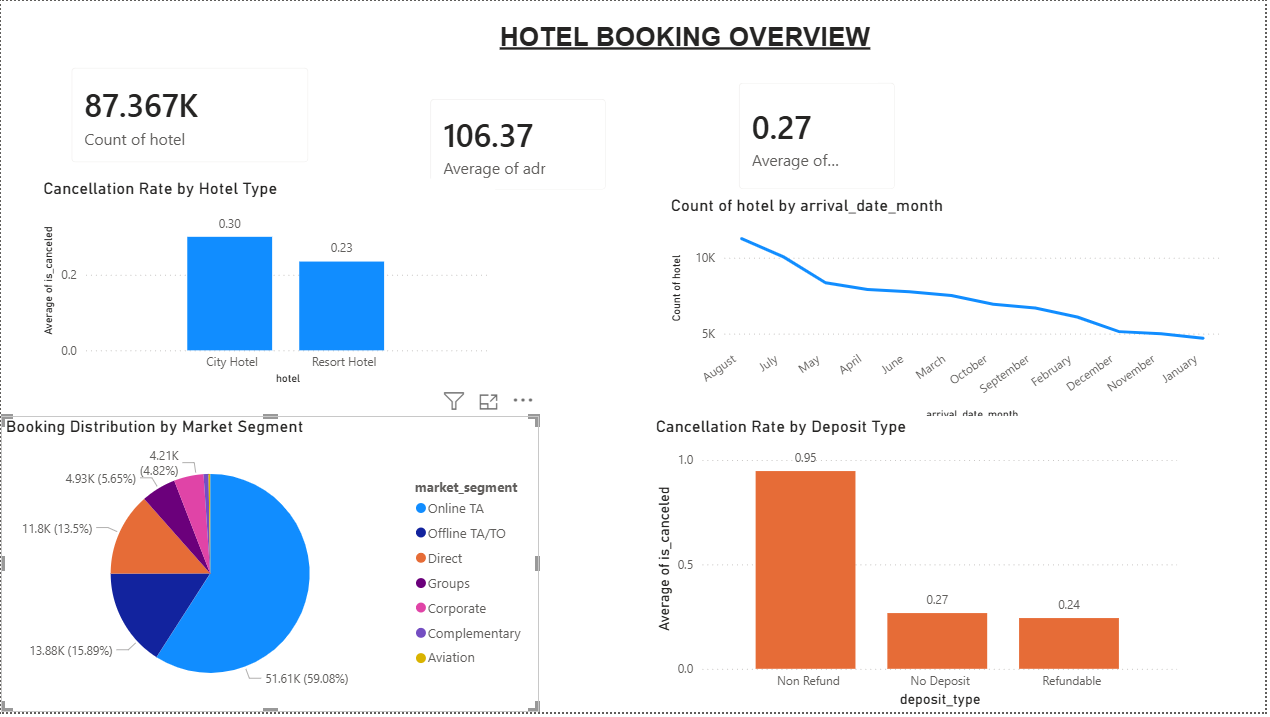

Layout of this report page (visuals, bound fields, positions):
{"tool":"powerbi","page":{"name":"Executive Overview","canvas":[1280,720],"ordinal":0},"visuals":[{"type":"cardVisual","fields":{"Data":["CountNonNull(hotel_bookings_cleaned.hotel)"]},"box":[54,50,274,130],"z":0},{"type":"cardVisual","fields":{"Data":["Avg(hotel_bookings_cleaned.is_canceled)"]},"box":[730,66,192,142],"z":1},{"type":"cardVisual","fields":{"Data":["Avg(hotel_bookings_cleaned.adr)"]},"box":[418,82,212,126],"z":2},{"type":"clusteredColumnChart","title":"Cancellation Rate by Hotel Type","fields":{"Category":["hotel_bookings_cleaned.hotel"],"Y":["Avg(hotel_bookings_cleaned.is_canceled)"]},"box":[38,180,462,214],"z":3},{"type":"lineChart","fields":{"Category":["hotel_bookings_cleaned.arrival_date_month"],"Y":["CountNonNull(hotel_bookings_cleaned.hotel)"]},"box":[674,196,566,234],"z":4},{"type":"clusteredColumnChart","title":"Cancellation Rate by Deposit Type","fields":{"Category":["hotel_bookings_cleaned.deposit_type"],"Y":["Avg(hotel_bookings_cleaned.is_canceled)"]},"box":[658,420,538,300],"z":5},{"type":"pieChart","title":"Booking Distribution by Market Segment","fields":{"Category":["hotel_bookings_cleaned.market_segment"],"Y":["CountNonNull(hotel_bookings_cleaned.hotel)"]},"box":[0,420,544,300],"z":6},{"type":"textbox","box":[500,16,388,66],"z":9}]}

Visuals, with their boxes in screenshot pixels (x1, y1, x2, y2), scaled from the page's 1280x720 canvas onto the 1270x717 screenshot:
cardVisual - CountNonNull(hotel_bookings_cleaned.hotel): select_region(54, 50, 325, 179)
cardVisual - Avg(hotel_bookings_cleaned.is_canceled): select_region(724, 66, 915, 207)
cardVisual - Avg(hotel_bookings_cleaned.adr): select_region(415, 82, 625, 207)
"Cancellation Rate by Hotel Type" clusteredColumnChart: select_region(38, 179, 496, 392)
lineChart - hotel_bookings_cleaned.arrival_date_month x CountNonNull(hotel_bookings_cleaned.hotel): select_region(669, 195, 1230, 428)
"Cancellation Rate by Deposit Type" clusteredColumnChart: select_region(653, 418, 1187, 716)
"Booking Distribution by Market Segment" pieChart: select_region(0, 418, 540, 716)
textbox: select_region(496, 16, 881, 82)
